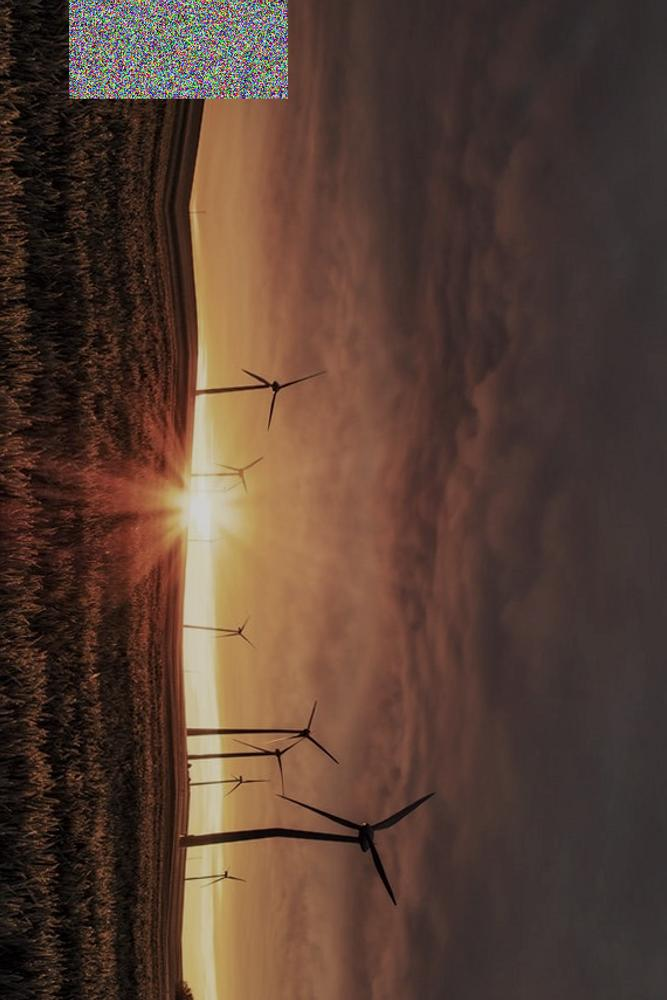working: (233, 788, 449, 917)
